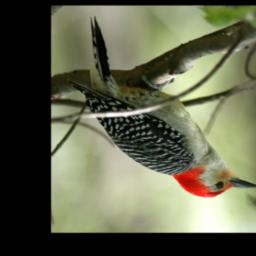Woodpecker: (70, 16, 256, 199)
